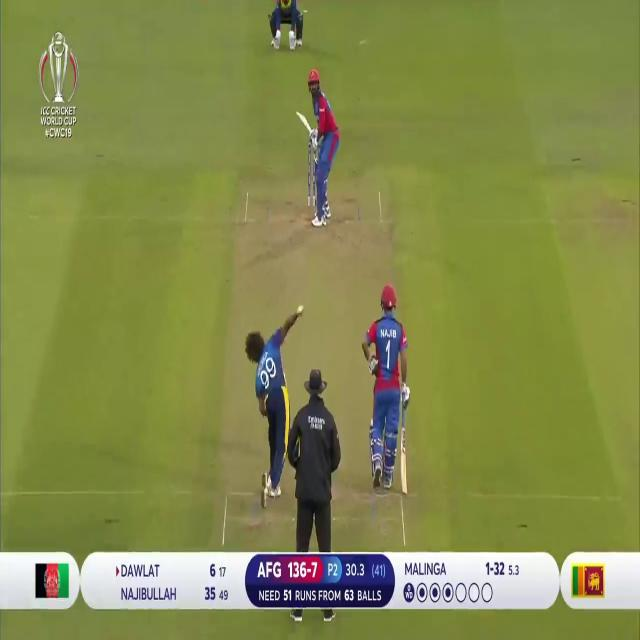ball: (294, 296, 306, 315)
